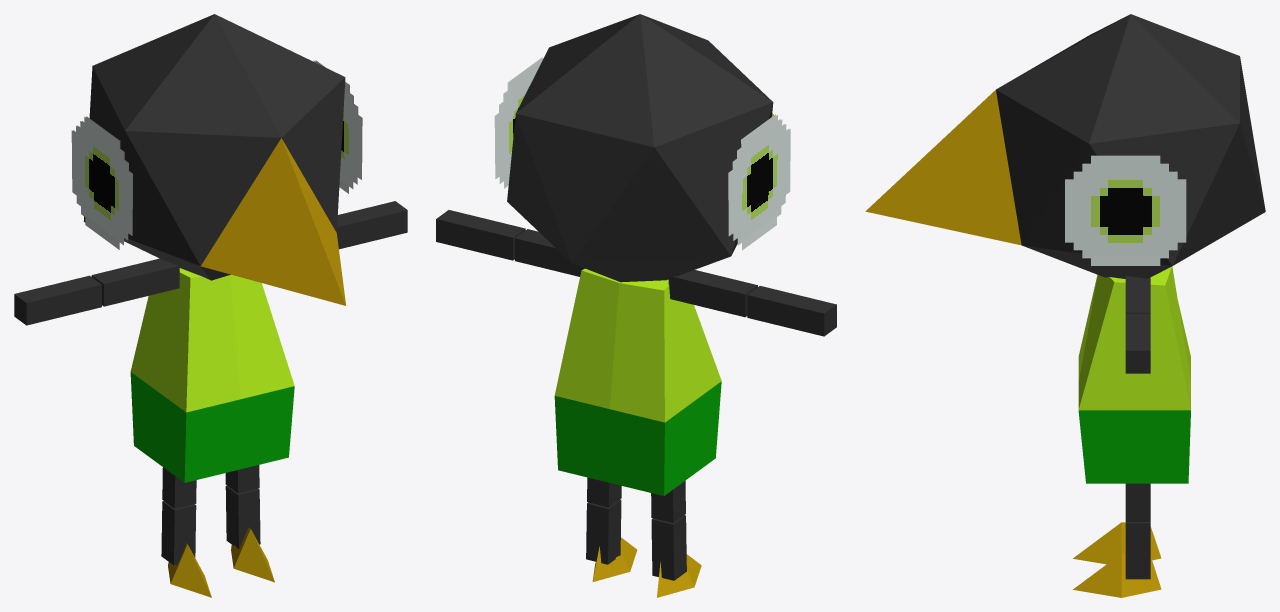
The model's file is birb.fbx.
3 renders of one model, left to right at view 1: azimuth 30°, elevation 25°; view 2: azimuth 150°, elevation 25°; view 3: azimuth 270°, elevation 25°, orthographic.
Parts seen in each view (by area): view 1: Cube; view 2: Cube; view 3: Cube.
Boxes of the visible parts, x1,y1,x2,y2 form: Cube: [14, 14, 407, 597]; Cube: [436, 14, 836, 597]; Cube: [865, 14, 1265, 597].
Size of the model in its own units: 407 by 567 by 367.
